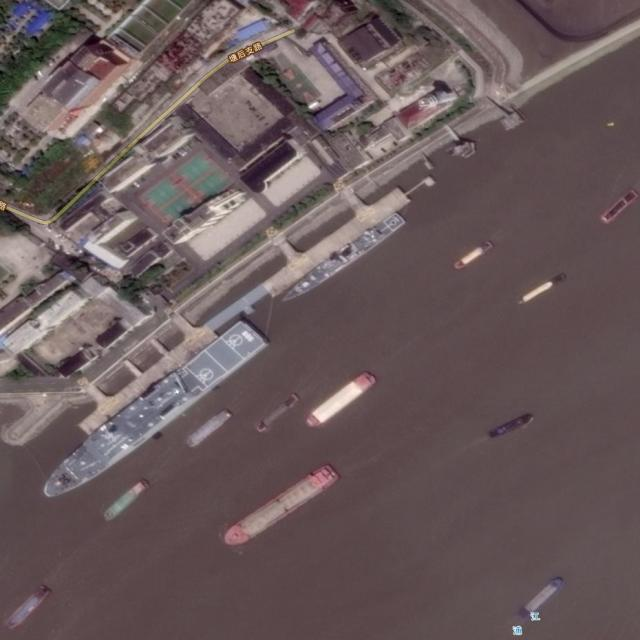Cargo: (217, 461, 341, 553), (300, 367, 380, 433), (4, 583, 54, 632), (100, 478, 151, 524), (518, 574, 564, 622), (184, 407, 233, 451), (253, 392, 301, 434), (515, 271, 568, 308), (597, 188, 639, 228), (449, 238, 497, 273), (487, 412, 535, 440)
Frigate: (278, 209, 407, 311)
Landing: (34, 312, 269, 518)
